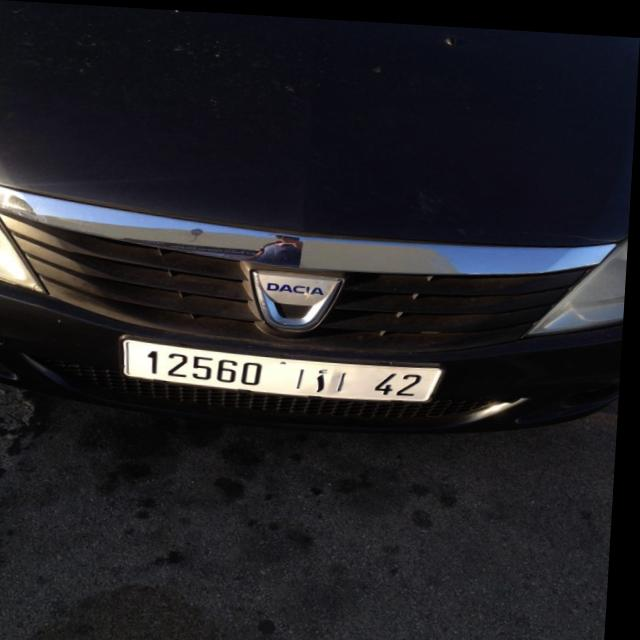License-Plate: (126, 337, 447, 397)
